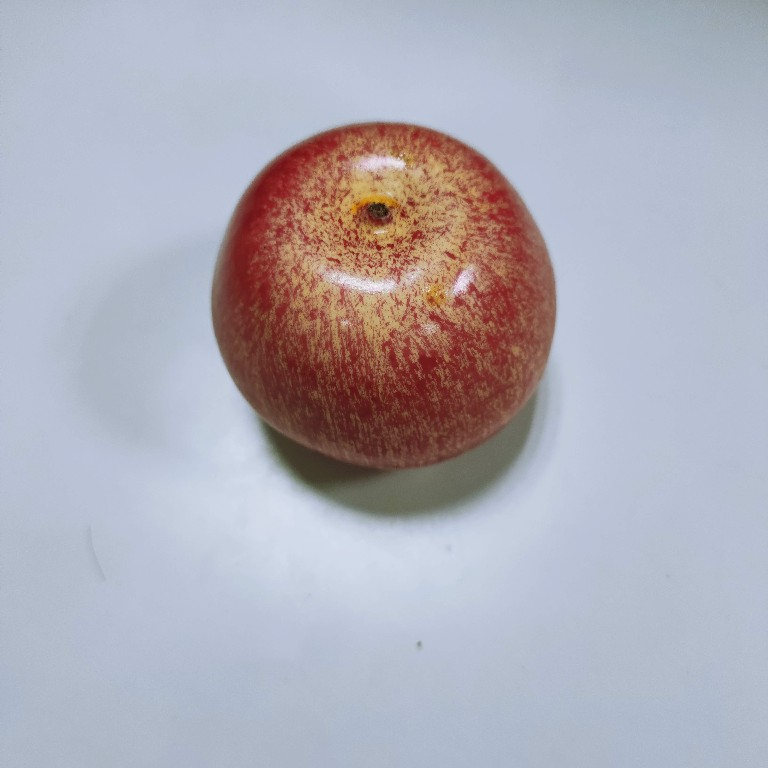fruit_apple: (203, 118, 562, 478)
